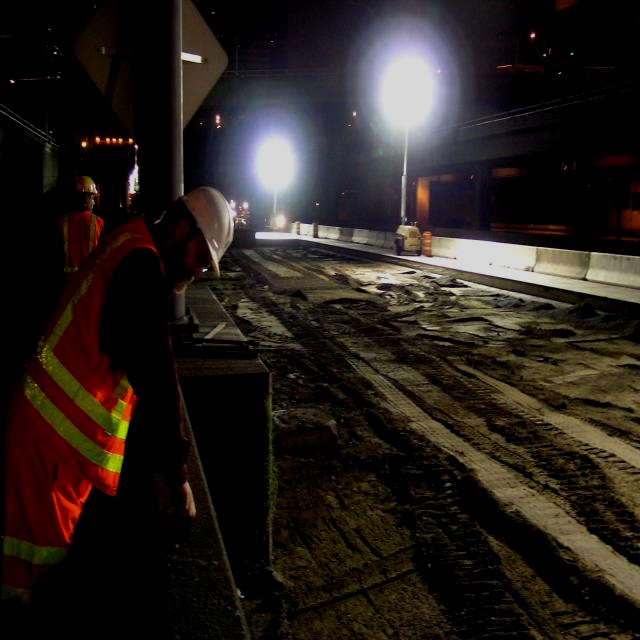Con_Casco: (161, 188, 237, 288), (74, 174, 98, 209)
Con_Chaleco: (31, 223, 160, 490), (59, 211, 102, 283)
